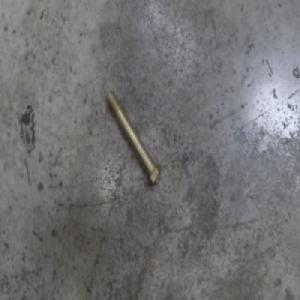Bolt: (104, 89, 162, 188)
